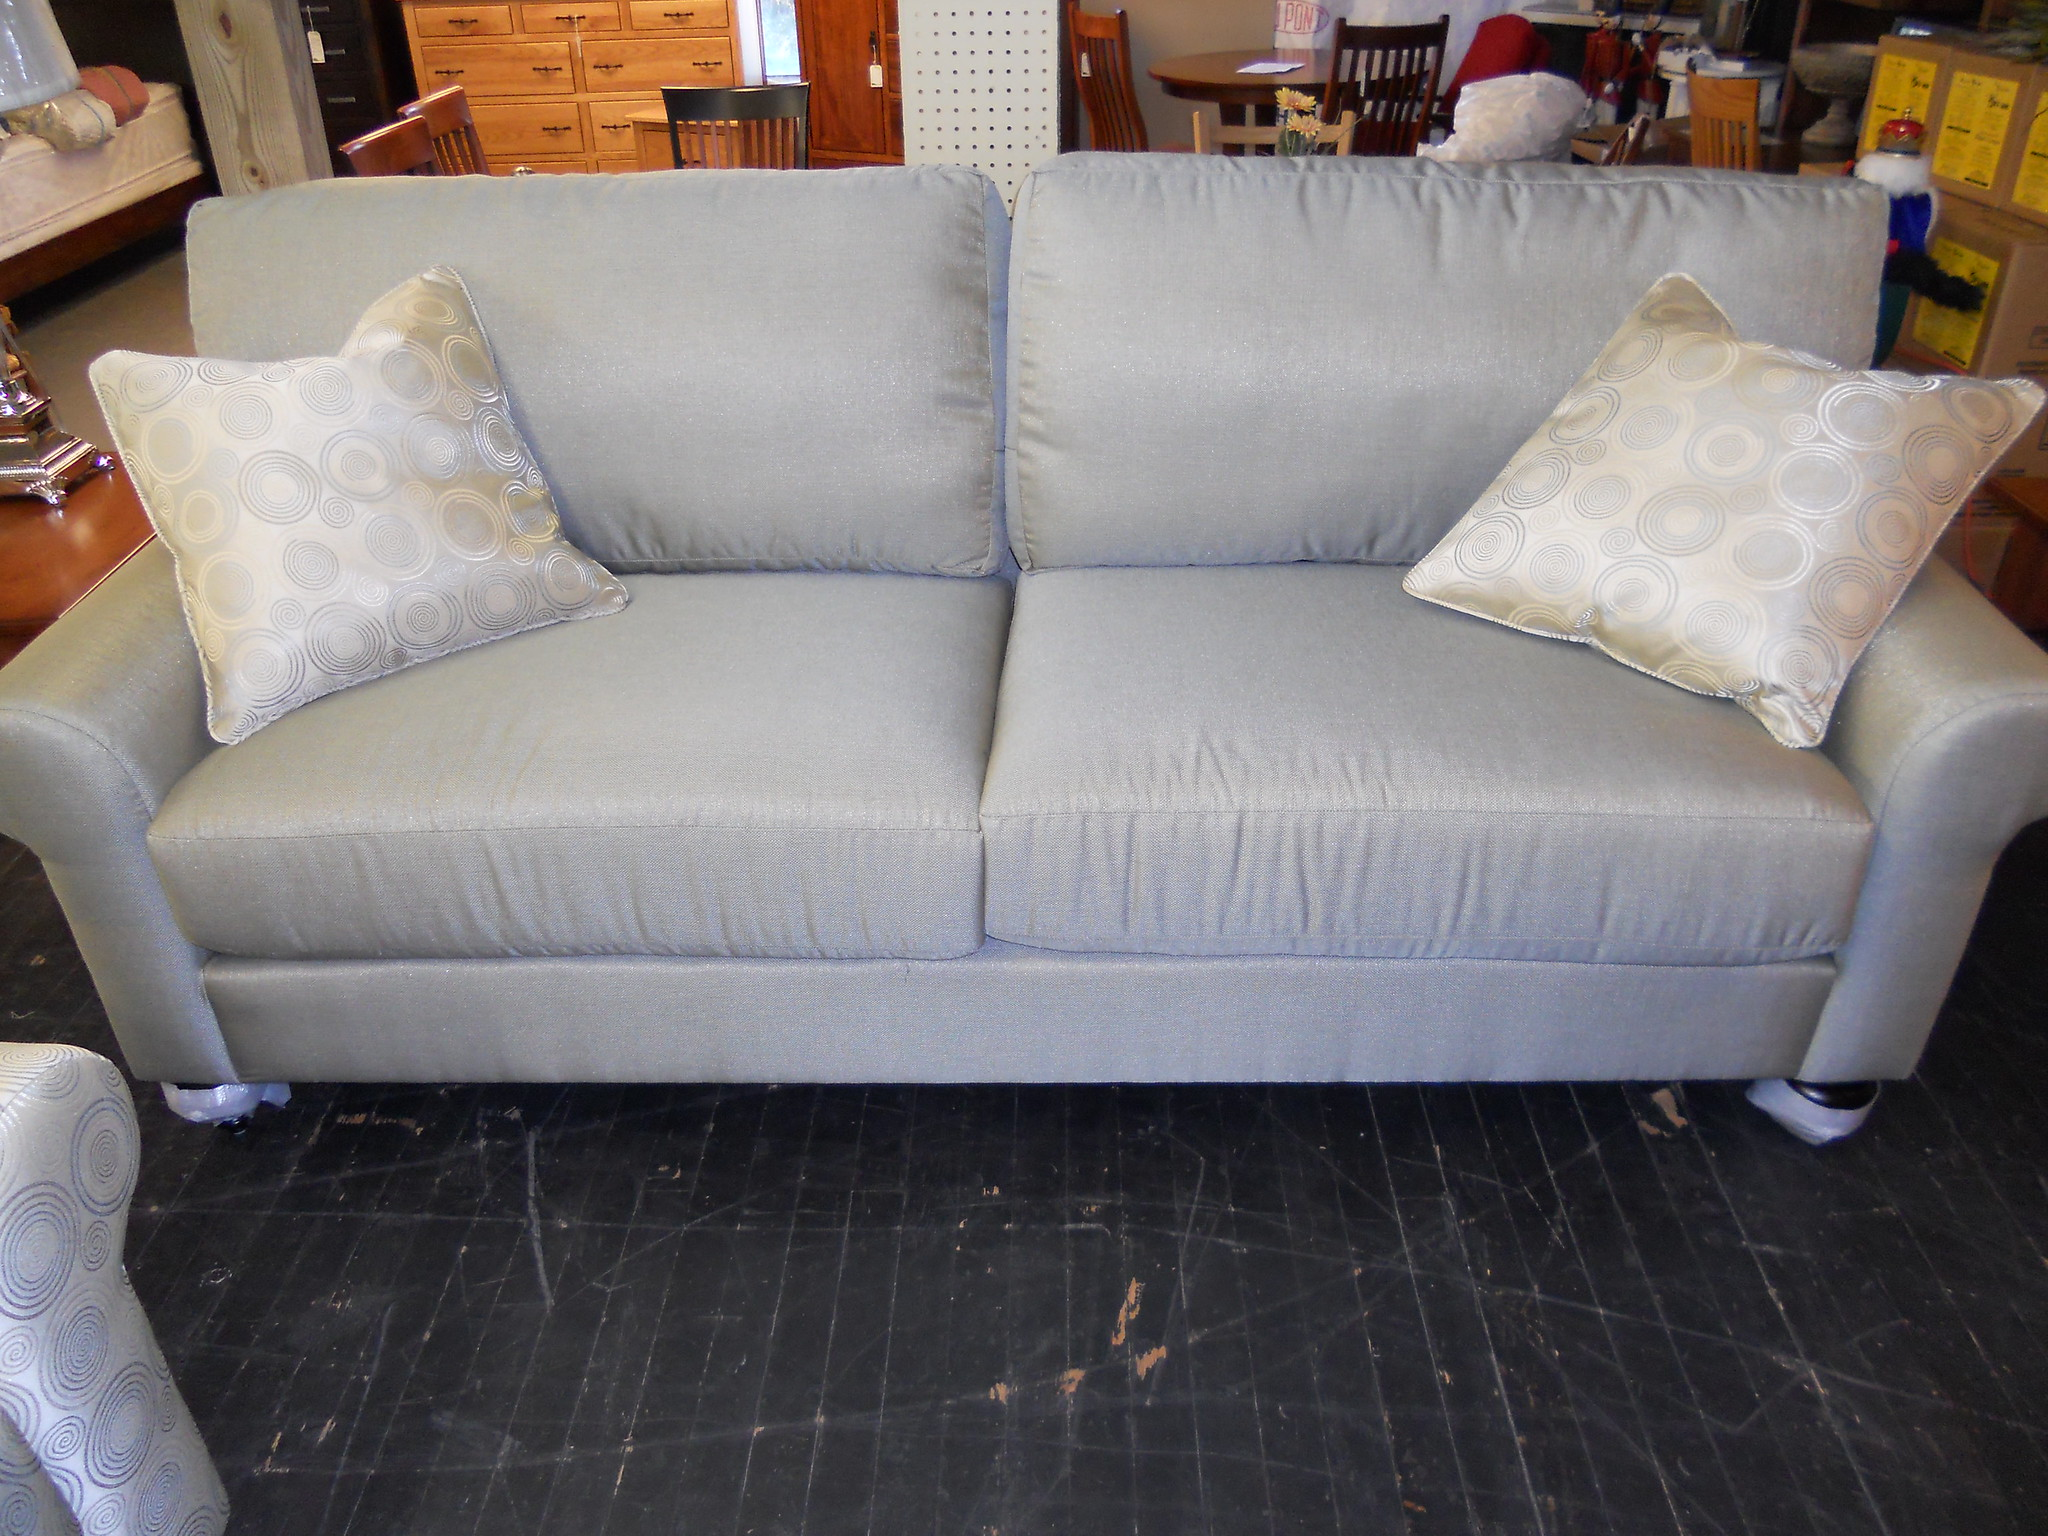sofa: (32, 161, 1996, 1158)
